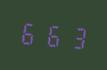six: (18, 17, 40, 48), (42, 19, 64, 50)
three: (65, 21, 87, 52)
